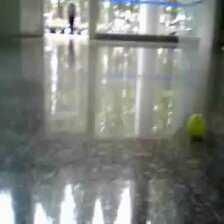tennis: (187, 113, 205, 135)
